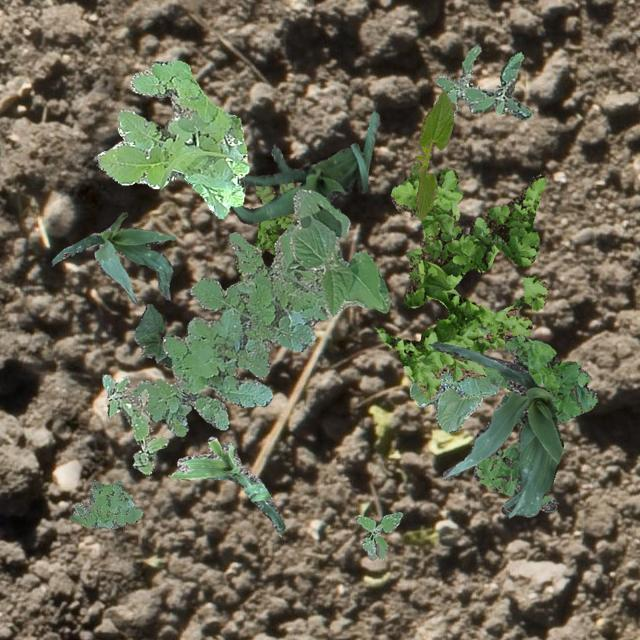crop: (428, 340, 562, 516), (228, 110, 378, 222), (288, 188, 388, 316), (50, 210, 174, 302), (170, 436, 284, 532), (408, 366, 498, 432), (414, 90, 454, 218), (132, 302, 172, 366)
weed: (125, 224, 328, 436), (376, 174, 546, 398), (92, 59, 248, 218), (472, 336, 596, 512), (389, 162, 462, 260), (436, 43, 530, 119), (100, 374, 168, 474), (234, 181, 294, 279), (68, 478, 142, 528), (354, 511, 402, 558)
